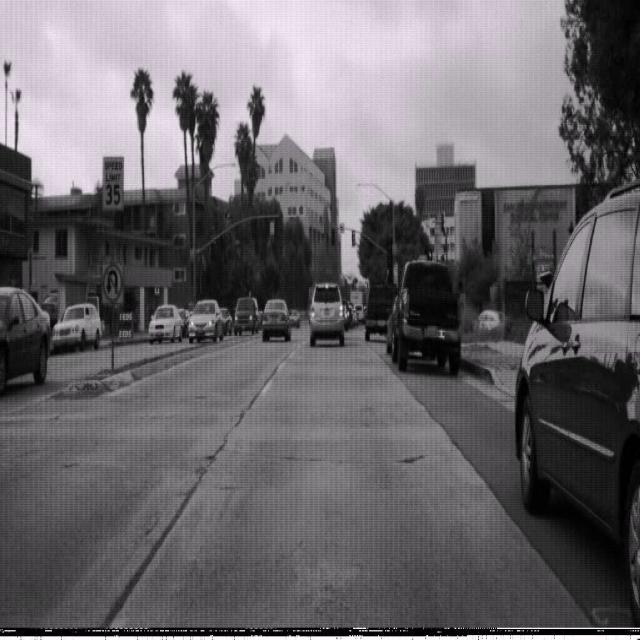speedLimit35: (102, 154, 125, 208)
